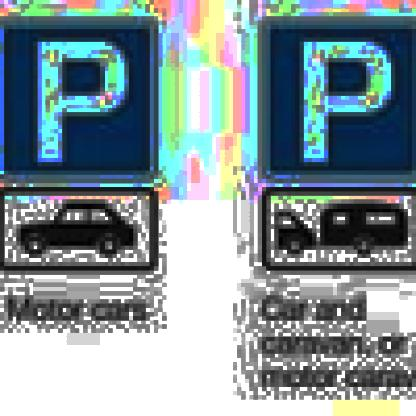Parking: (258, 16, 416, 174), (5, 30, 151, 180)
